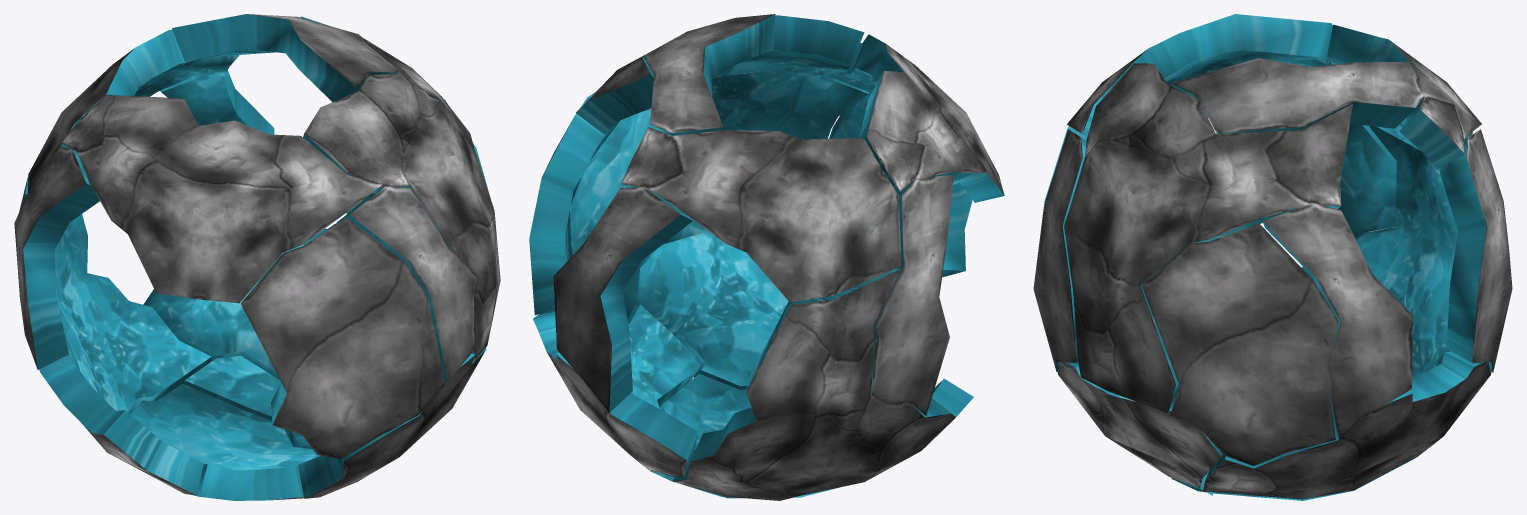
The model's file is INST_TROLLHOLE_GEODE_ANI.fbx.
3 renders of one model, left to right at view 1: azimuth 30°, elevation 25°; view 2: azimuth 150°, elevation 25°; view 3: azimuth 270°, elevation 25°, orthographic.
Parts seen in each view (by area): view 1: INST_TROLLHOLE_GEODE_ANI; view 2: INST_TROLLHOLE_GEODE_ANI; view 3: INST_TROLLHOLE_GEODE_ANI.
Boxes of the visible parts, x1=… form: INST_TROLLHOLE_GEODE_ANI: x1=14, y1=14, x2=500, y2=500; INST_TROLLHOLE_GEODE_ANI: x1=529, y1=14, x2=1004, y2=500; INST_TROLLHOLE_GEODE_ANI: x1=1033, y1=14, x2=1512, y2=500.
Bounding box in the file's own units: 10550 × 10628 × 10576.
Materials: 2 (2 with a texture image).
